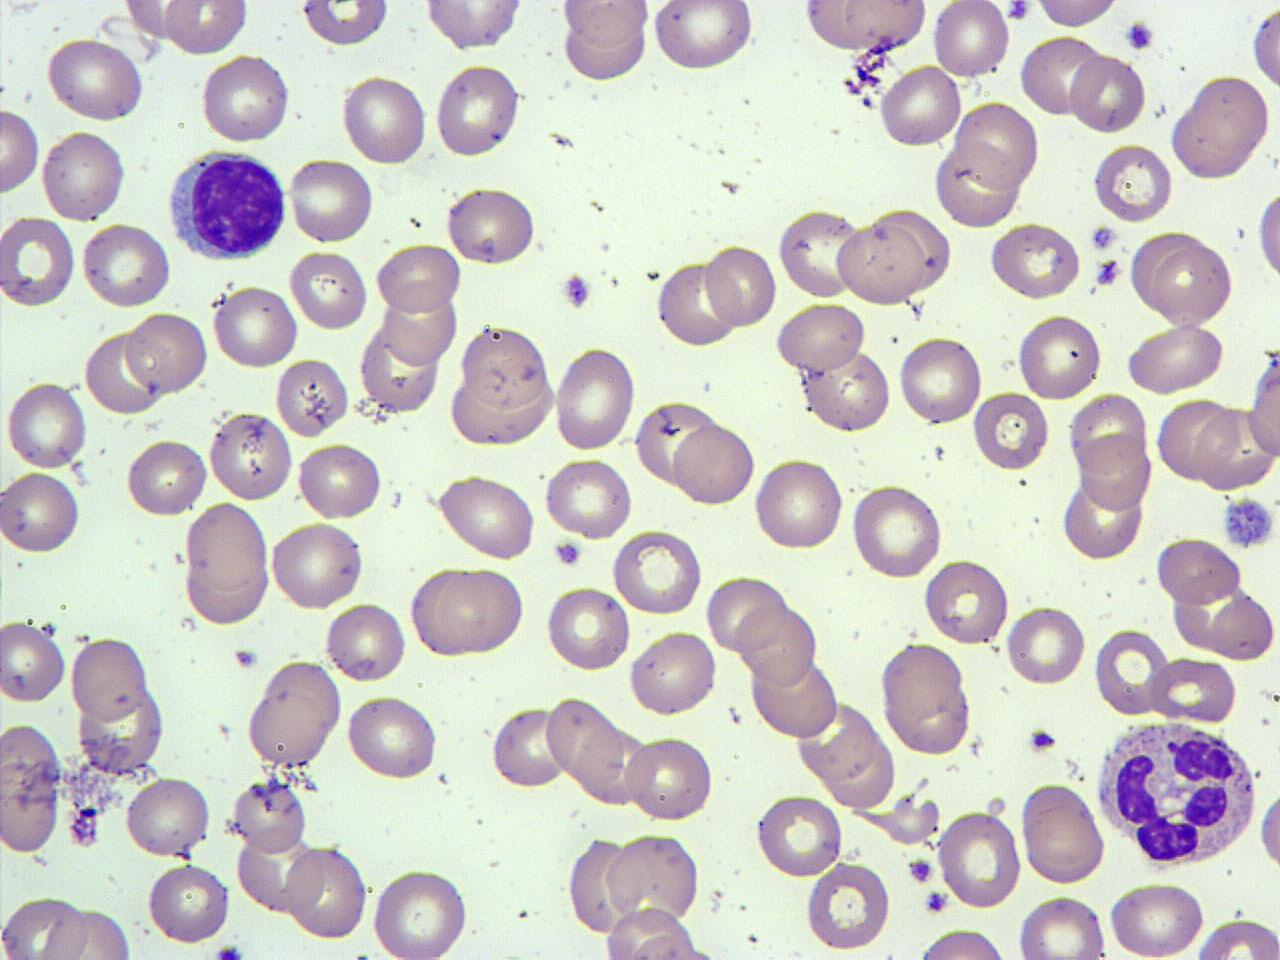Platelets: (1219, 494, 1275, 552), (561, 272, 593, 310), (1123, 18, 1155, 52), (1094, 256, 1124, 289), (1089, 222, 1119, 252), (906, 856, 934, 885), (552, 538, 582, 566), (230, 646, 260, 672), (1027, 728, 1057, 752), (212, 940, 245, 960), (924, 888, 948, 914), (1005, 0, 1031, 21)
RBC: (181, 500, 273, 628), (1167, 72, 1273, 182), (407, 564, 528, 659), (244, 659, 344, 771), (878, 640, 974, 756), (849, 480, 945, 580), (750, 454, 846, 554), (370, 866, 472, 960), (604, 830, 702, 926), (552, 344, 638, 452), (435, 472, 538, 562), (1019, 782, 1107, 886), (432, 61, 524, 160), (269, 518, 366, 612), (197, 52, 292, 146), (44, 36, 146, 123), (609, 526, 705, 618), (39, 126, 127, 226), (343, 692, 439, 782), (1, 722, 65, 858), (339, 72, 429, 166), (286, 842, 370, 944), (937, 808, 1021, 910), (628, 627, 720, 719), (624, 732, 715, 825), (753, 791, 846, 881), (456, 323, 551, 410), (804, 858, 892, 954), (207, 409, 295, 503), (79, 220, 173, 308), (1107, 877, 1207, 959), (210, 281, 300, 372), (1015, 310, 1103, 403), (797, 348, 893, 434), (986, 219, 1084, 302), (1145, 236, 1235, 327), (922, 555, 1010, 647), (833, 220, 926, 307), (932, 142, 1024, 230), (544, 582, 632, 674), (897, 333, 982, 428), (776, 208, 862, 301), (950, 99, 1041, 186), (543, 454, 634, 541), (748, 654, 840, 740), (3, 379, 89, 471), (444, 184, 538, 267), (145, 859, 233, 948), (634, 398, 721, 488), (878, 61, 964, 151), (285, 158, 376, 244), (124, 772, 212, 860), (295, 437, 384, 523), (124, 308, 210, 396), (82, 328, 165, 418), (0, 466, 83, 558), (1122, 323, 1228, 394), (0, 211, 77, 310), (671, 419, 756, 508), (734, 599, 819, 686), (650, 0, 756, 70), (323, 600, 408, 686), (654, 258, 736, 348), (1004, 602, 1089, 688), (1093, 626, 1171, 718), (1090, 139, 1174, 224), (1154, 396, 1238, 482), (1059, 478, 1145, 562), (772, 299, 867, 375), (287, 246, 370, 332), (795, 696, 877, 782), (1067, 390, 1149, 476), (124, 436, 208, 518), (800, 0, 927, 54), (69, 636, 149, 722), (542, 694, 621, 782), (566, 834, 634, 936), (1018, 33, 1104, 113), (876, 207, 954, 293), (373, 240, 463, 316), (1153, 534, 1245, 608), (705, 573, 787, 654), (703, 242, 779, 331), (971, 389, 1051, 472), (489, 704, 566, 790), (1069, 51, 1147, 136), (1145, 654, 1239, 724), (273, 356, 351, 439), (0, 890, 92, 960), (930, 0, 1010, 80), (0, 616, 69, 708), (230, 774, 308, 854), (1075, 434, 1153, 514), (1016, 892, 1108, 960), (561, 16, 648, 85), (603, 904, 699, 960), (422, 0, 526, 51), (43, 904, 136, 960), (162, 0, 249, 57), (1208, 592, 1276, 662), (297, 0, 391, 49), (560, 0, 651, 49), (1246, 347, 1280, 468), (0, 105, 42, 198), (1193, 918, 1280, 960), (117, 0, 203, 42), (910, 924, 1014, 958), (1031, 0, 1123, 31), (1253, 178, 1279, 286), (1249, 6, 1279, 92), (1255, 781, 1279, 875)
WBC: (1091, 714, 1261, 870), (164, 143, 293, 263)
